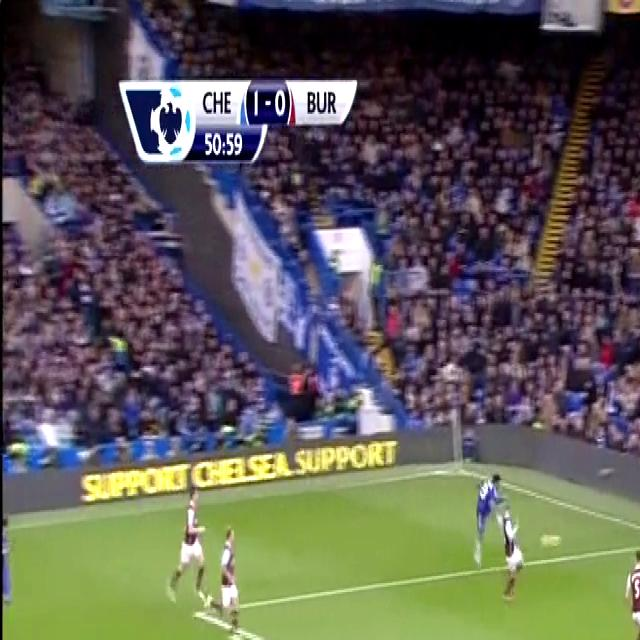ball: (542, 524, 562, 560)
soccer-player: (162, 466, 209, 614), (206, 512, 249, 640), (496, 487, 532, 609), (466, 462, 501, 582), (613, 538, 640, 640)
